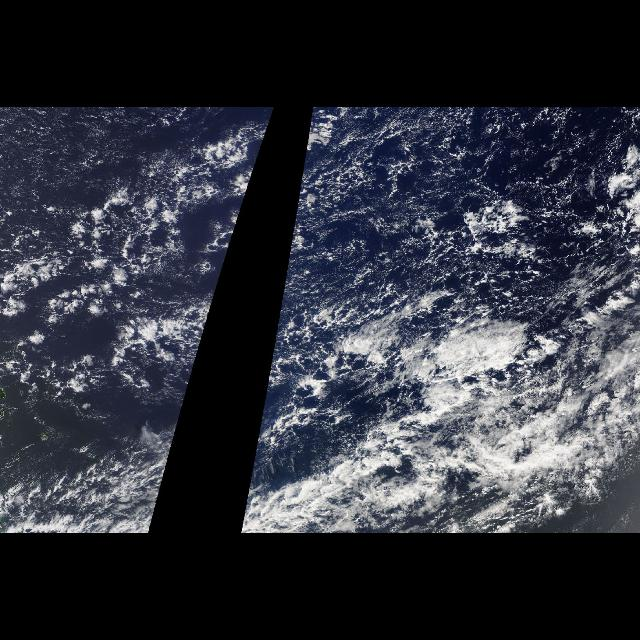Gravel: (278, 107, 632, 431), (16, 116, 272, 324)
